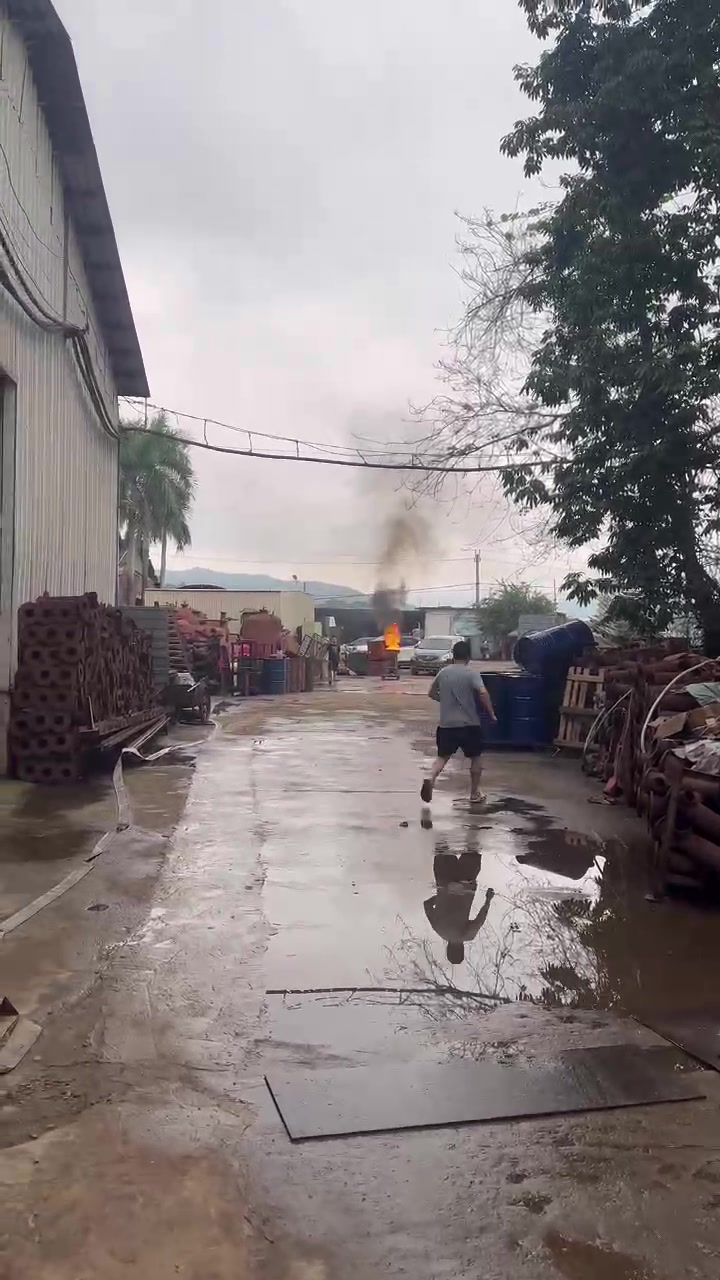fire: (384, 623, 399, 649)
